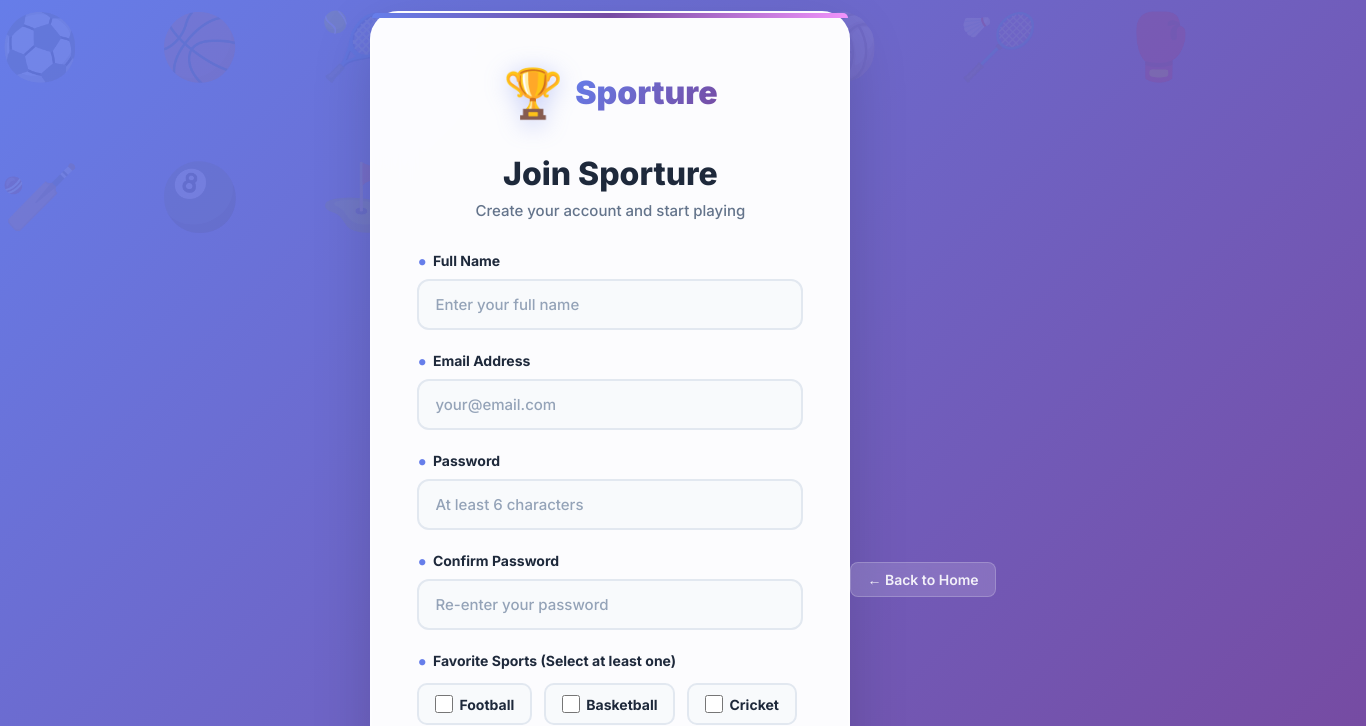
Register › enforces the same password length as the server
The image size is (1366, 726).
Type "Radha Raman" into the field with placeholder "Enter your full name" at x=610, y=304, box [417, 279, 803, 330]
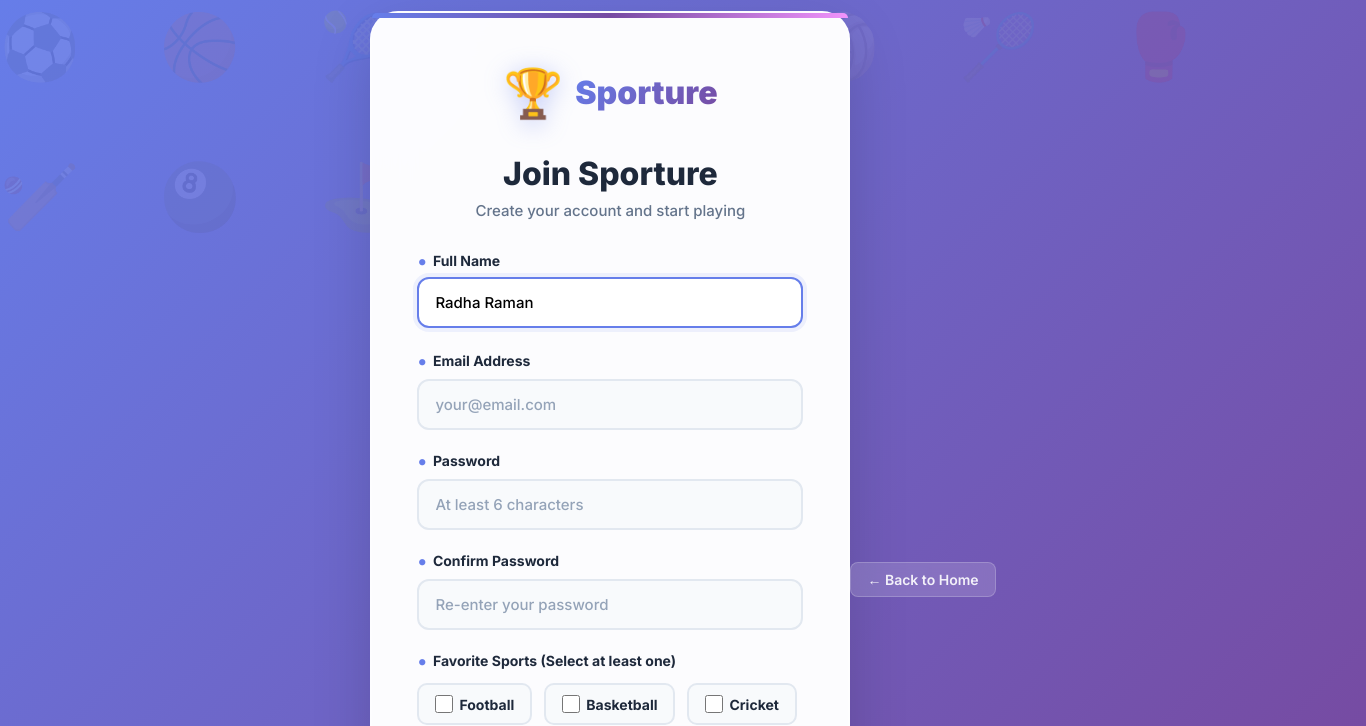
Type "radha@example.com" into the field with placeholder "your@email.com" at x=610, y=404, box [417, 379, 803, 430]
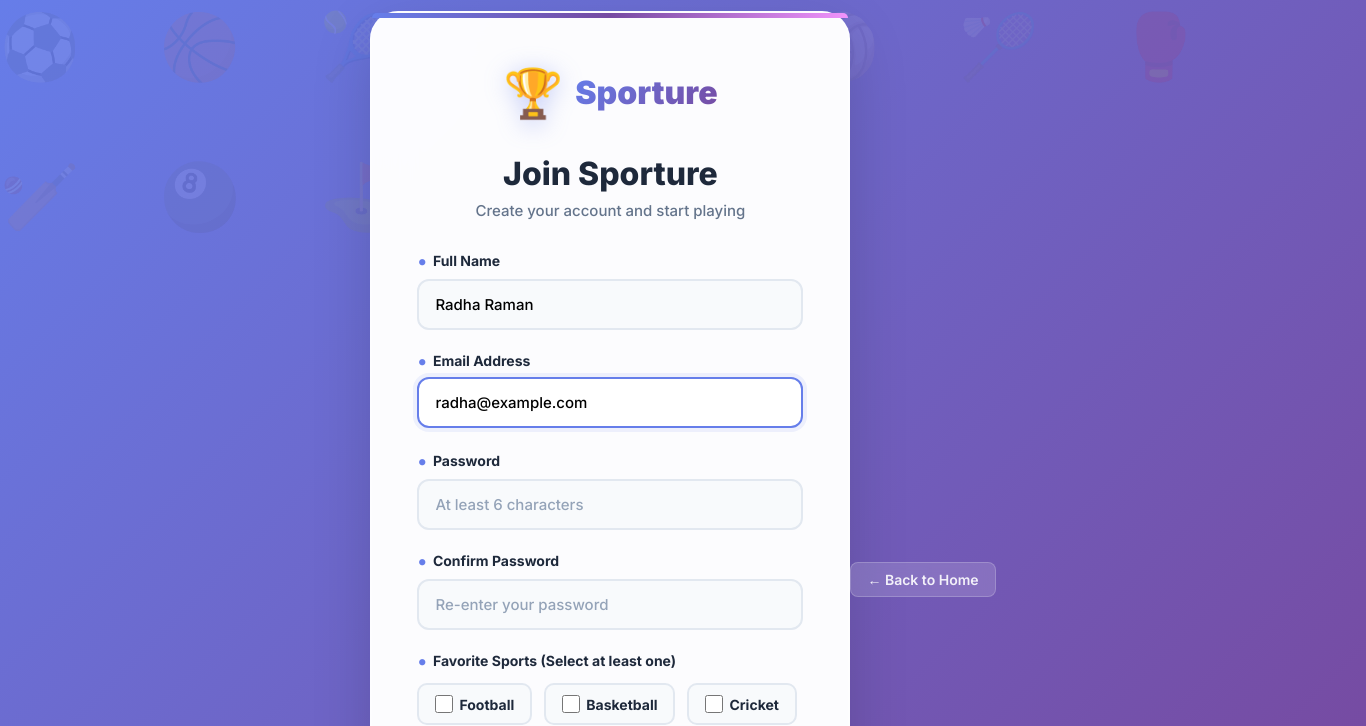
Type "Short12" into the password field named "password" at x=610, y=504, box [417, 479, 803, 530]
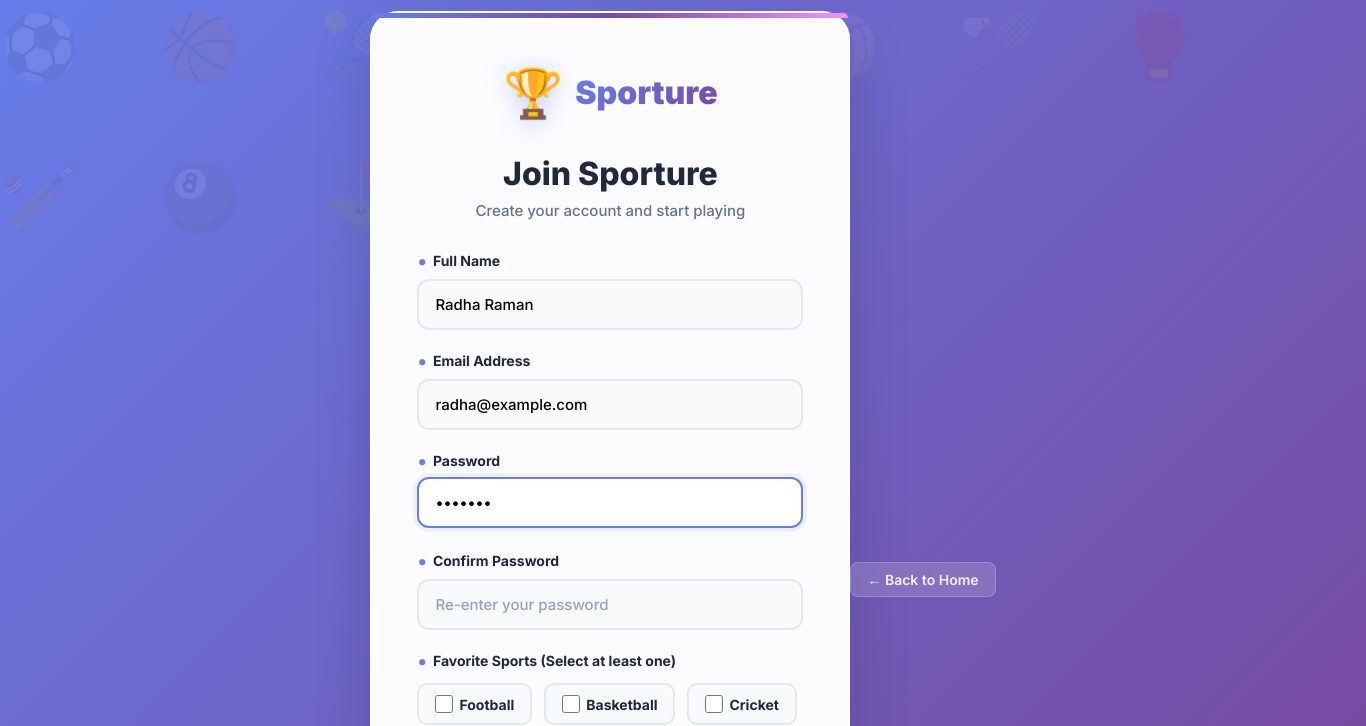
Type "Short12" into the password field named "confirmPassword" at x=610, y=604, box [417, 579, 803, 630]
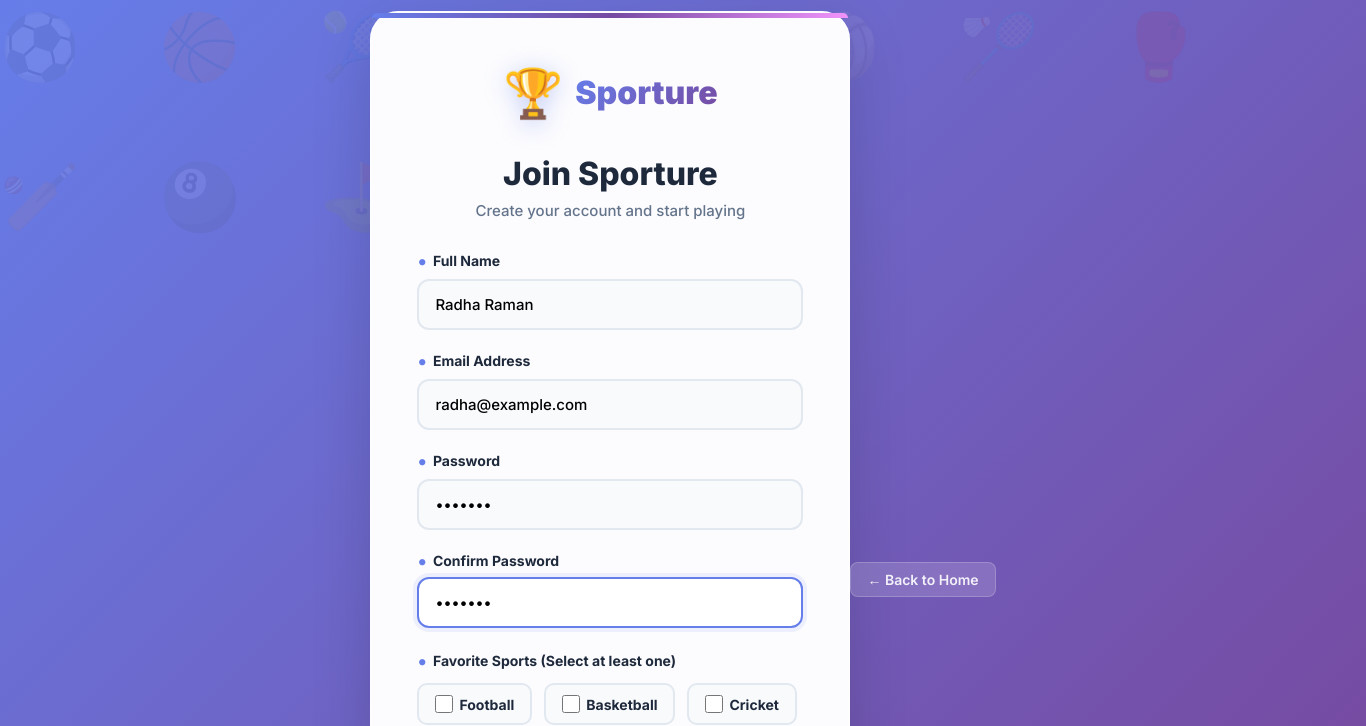
Click the checkbox labelled "Football" at x=444, y=704, box [435, 695, 453, 713]
(page scrolled)
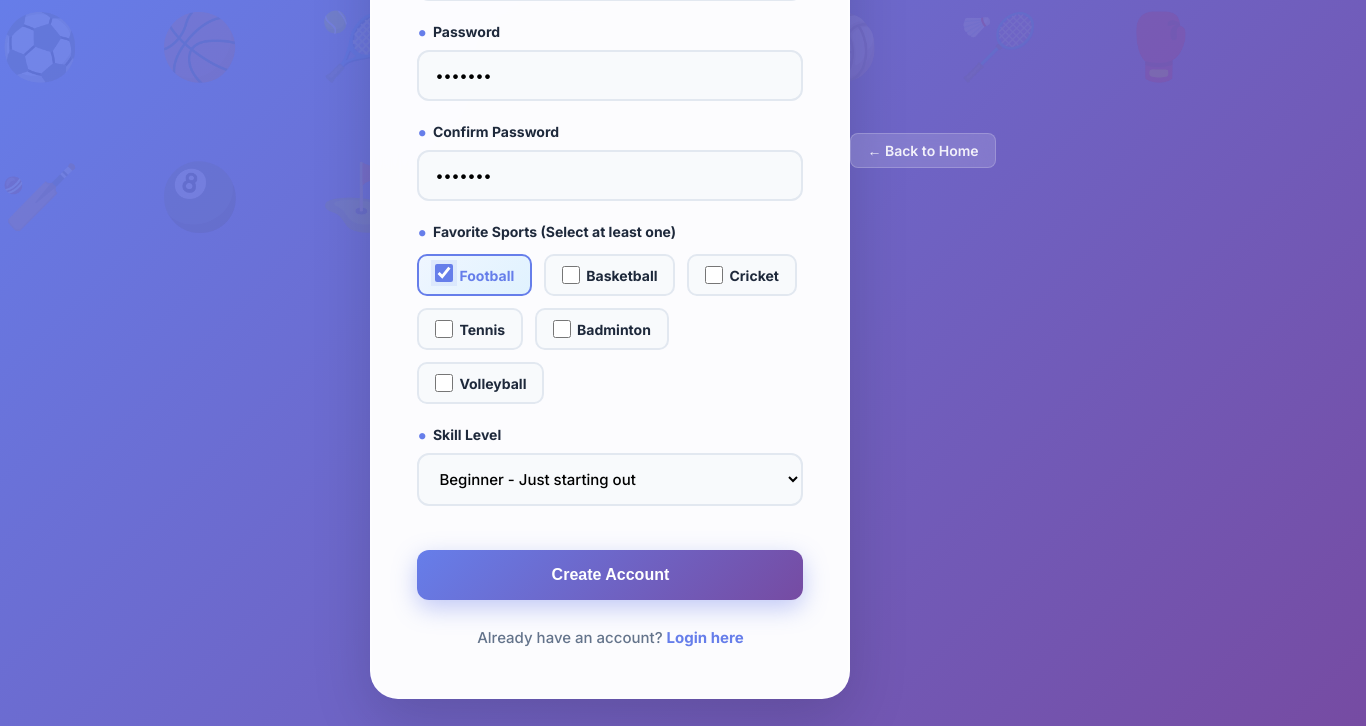
Click the button "Create Account" at x=610, y=575, box [417, 550, 803, 600]
(page scrolled)
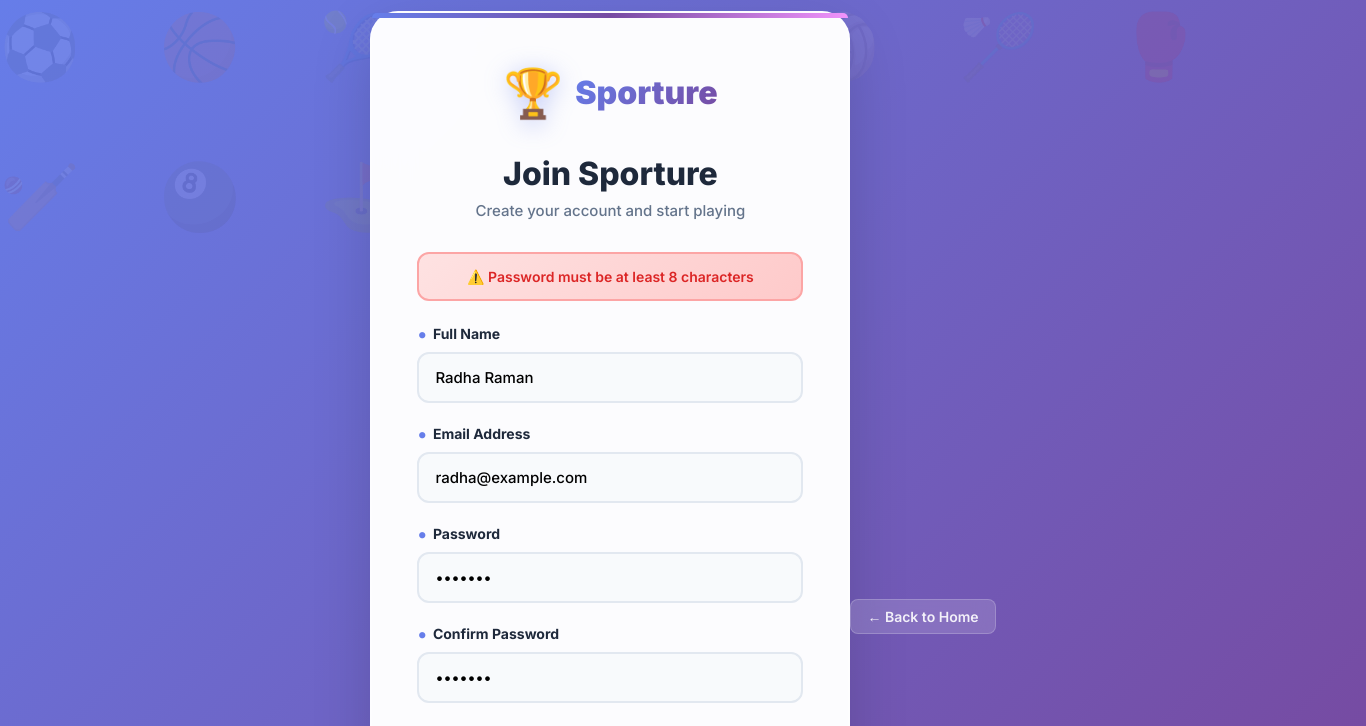
Now the text "⚠️ Password must be at least 8 characters" is shown, box [417, 252, 803, 301]
